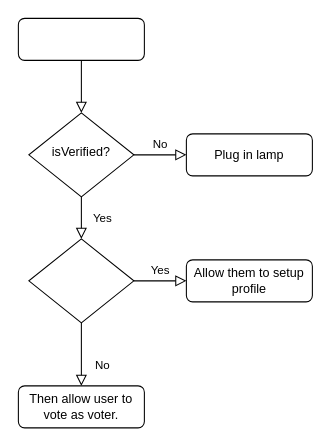
This 331x446 diagram has some shape labels left out. The shapes that lost their labels are listed below. From the top down, each one's centre as x and y in pixels, then its label:
At pixel 80 38: "Register the User".
At pixel 81 280: "isCandidate?".
